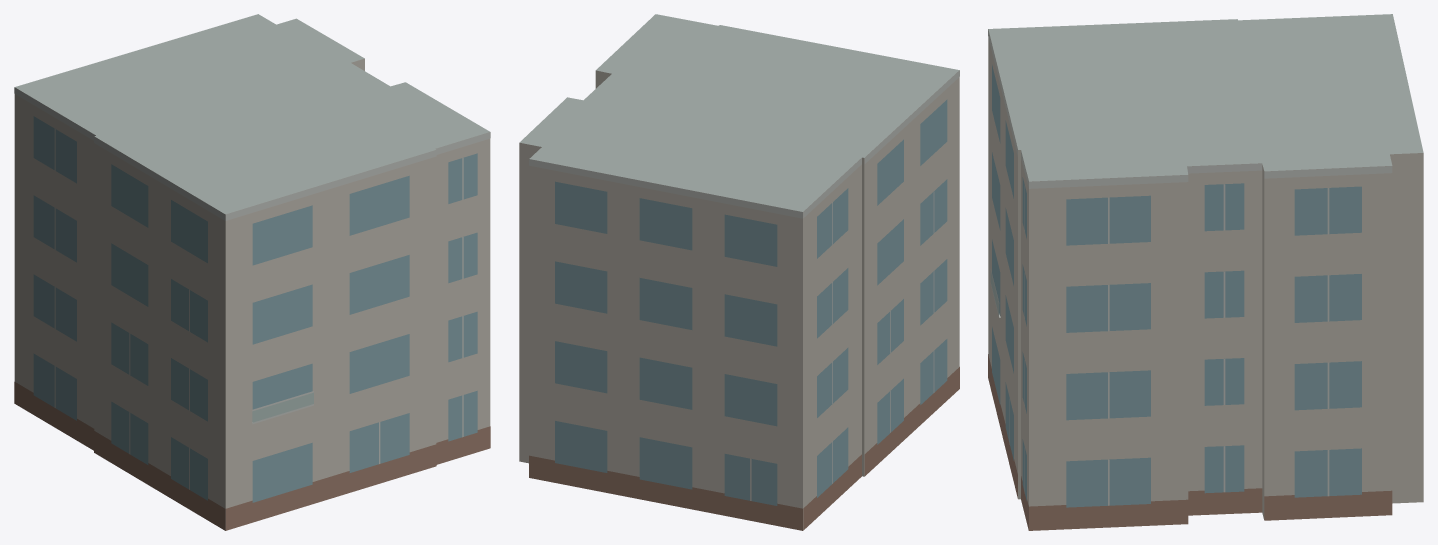
File: survey-upis-32938314.glb
3 views of the same model, side by side, from view 1: azimuth 30°, elevation 25°; view 2: azimuth 150°, elevation 25°; view 3: azimuth 270°, elevation 25° (orthographic). The views are drawn at different scales.
Parts seen in each view (by area): view 1: survey-upis-32938314.tmp; view 2: survey-upis-32938314.tmp; view 3: survey-upis-32938314.tmp.
Boxes of the visible parts, bbox=[...] form: survey-upis-32938314.tmp: bbox=[14, 14, 490, 530]; survey-upis-32938314.tmp: bbox=[519, 14, 959, 530]; survey-upis-32938314.tmp: bbox=[988, 14, 1423, 530].
Bounding box in the file's own units: 12 × 11.65 × 13.17.
